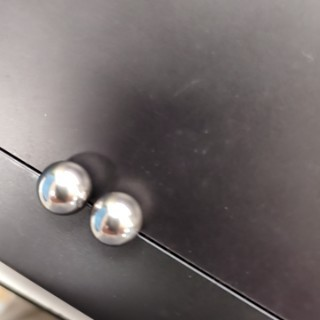ironball: (82, 172, 148, 254), (25, 146, 94, 221)
